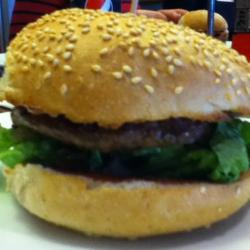burger: (2, 6, 246, 239)
